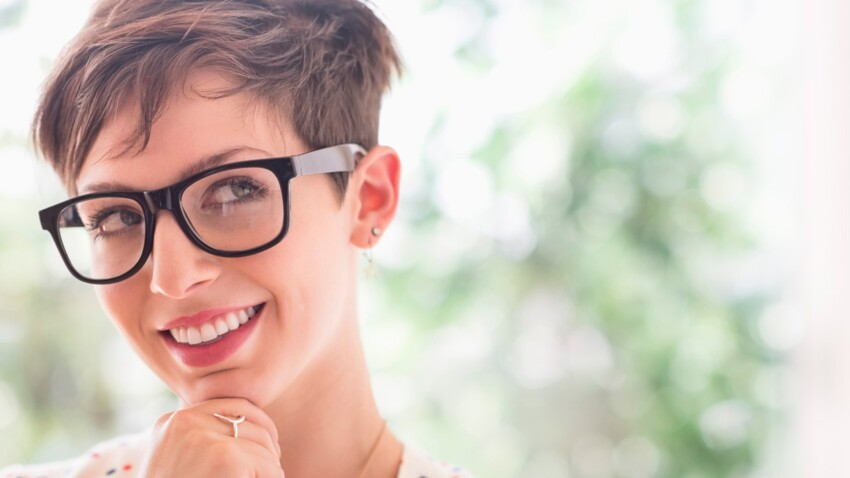without_mask: (72, 128, 341, 420)
